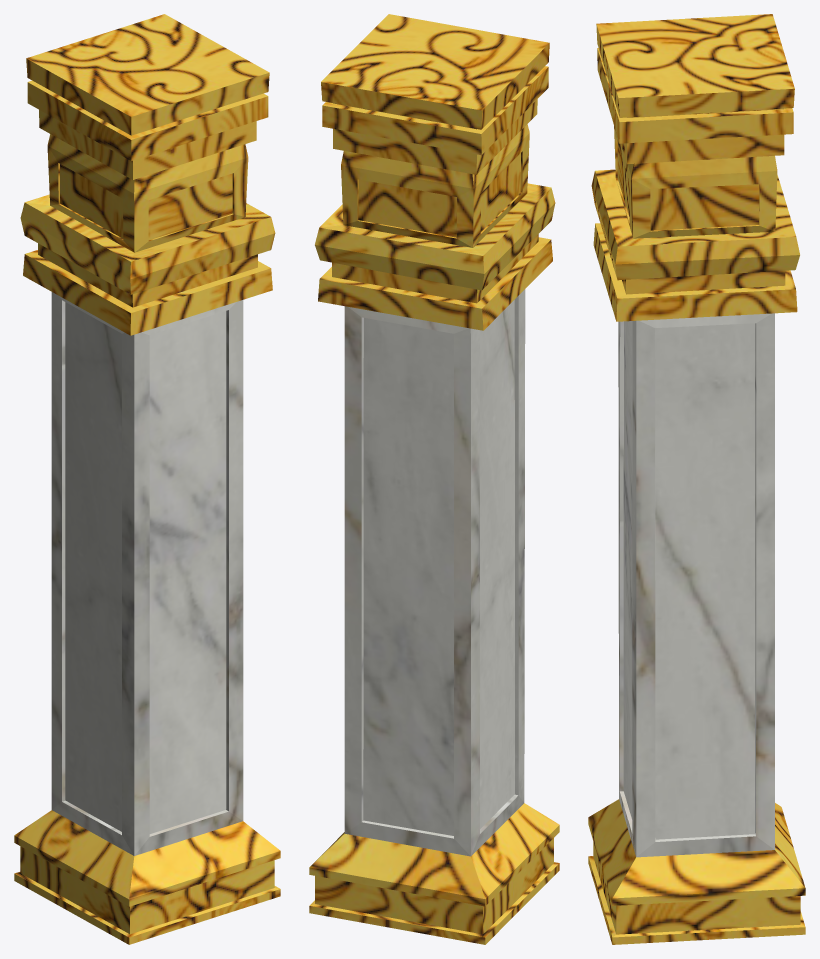
The model's file is Columna.fbx.
The picture shows the model from 3 angles, left to right: view 1: azimuth 30°, elevation 25°; view 2: azimuth 150°, elevation 25°; view 3: azimuth 270°, elevation 25°; orthographic projection. The views are drawn at different scales.
Parts seen in each view (by area): view 1: Columna.001, Columna, Columna.002; view 2: Columna.001, Columna, Columna.002; view 3: Columna.001, Columna, Columna.002.
Boxes of the visible parts, x1,y1,x2,y2 form: Columna.001: [51, 292, 243, 855]; Columna: [20, 14, 275, 335]; Columna.002: [14, 810, 280, 944]; Columna.001: [344, 289, 525, 856]; Columna: [315, 14, 555, 330]; Columna.002: [309, 803, 559, 944]; Columna.001: [618, 313, 774, 857]; Columna: [591, 14, 799, 321]; Columna.002: [588, 799, 805, 944].
Bounding box in the file's own units: 61.95 × 265 × 61.89.
